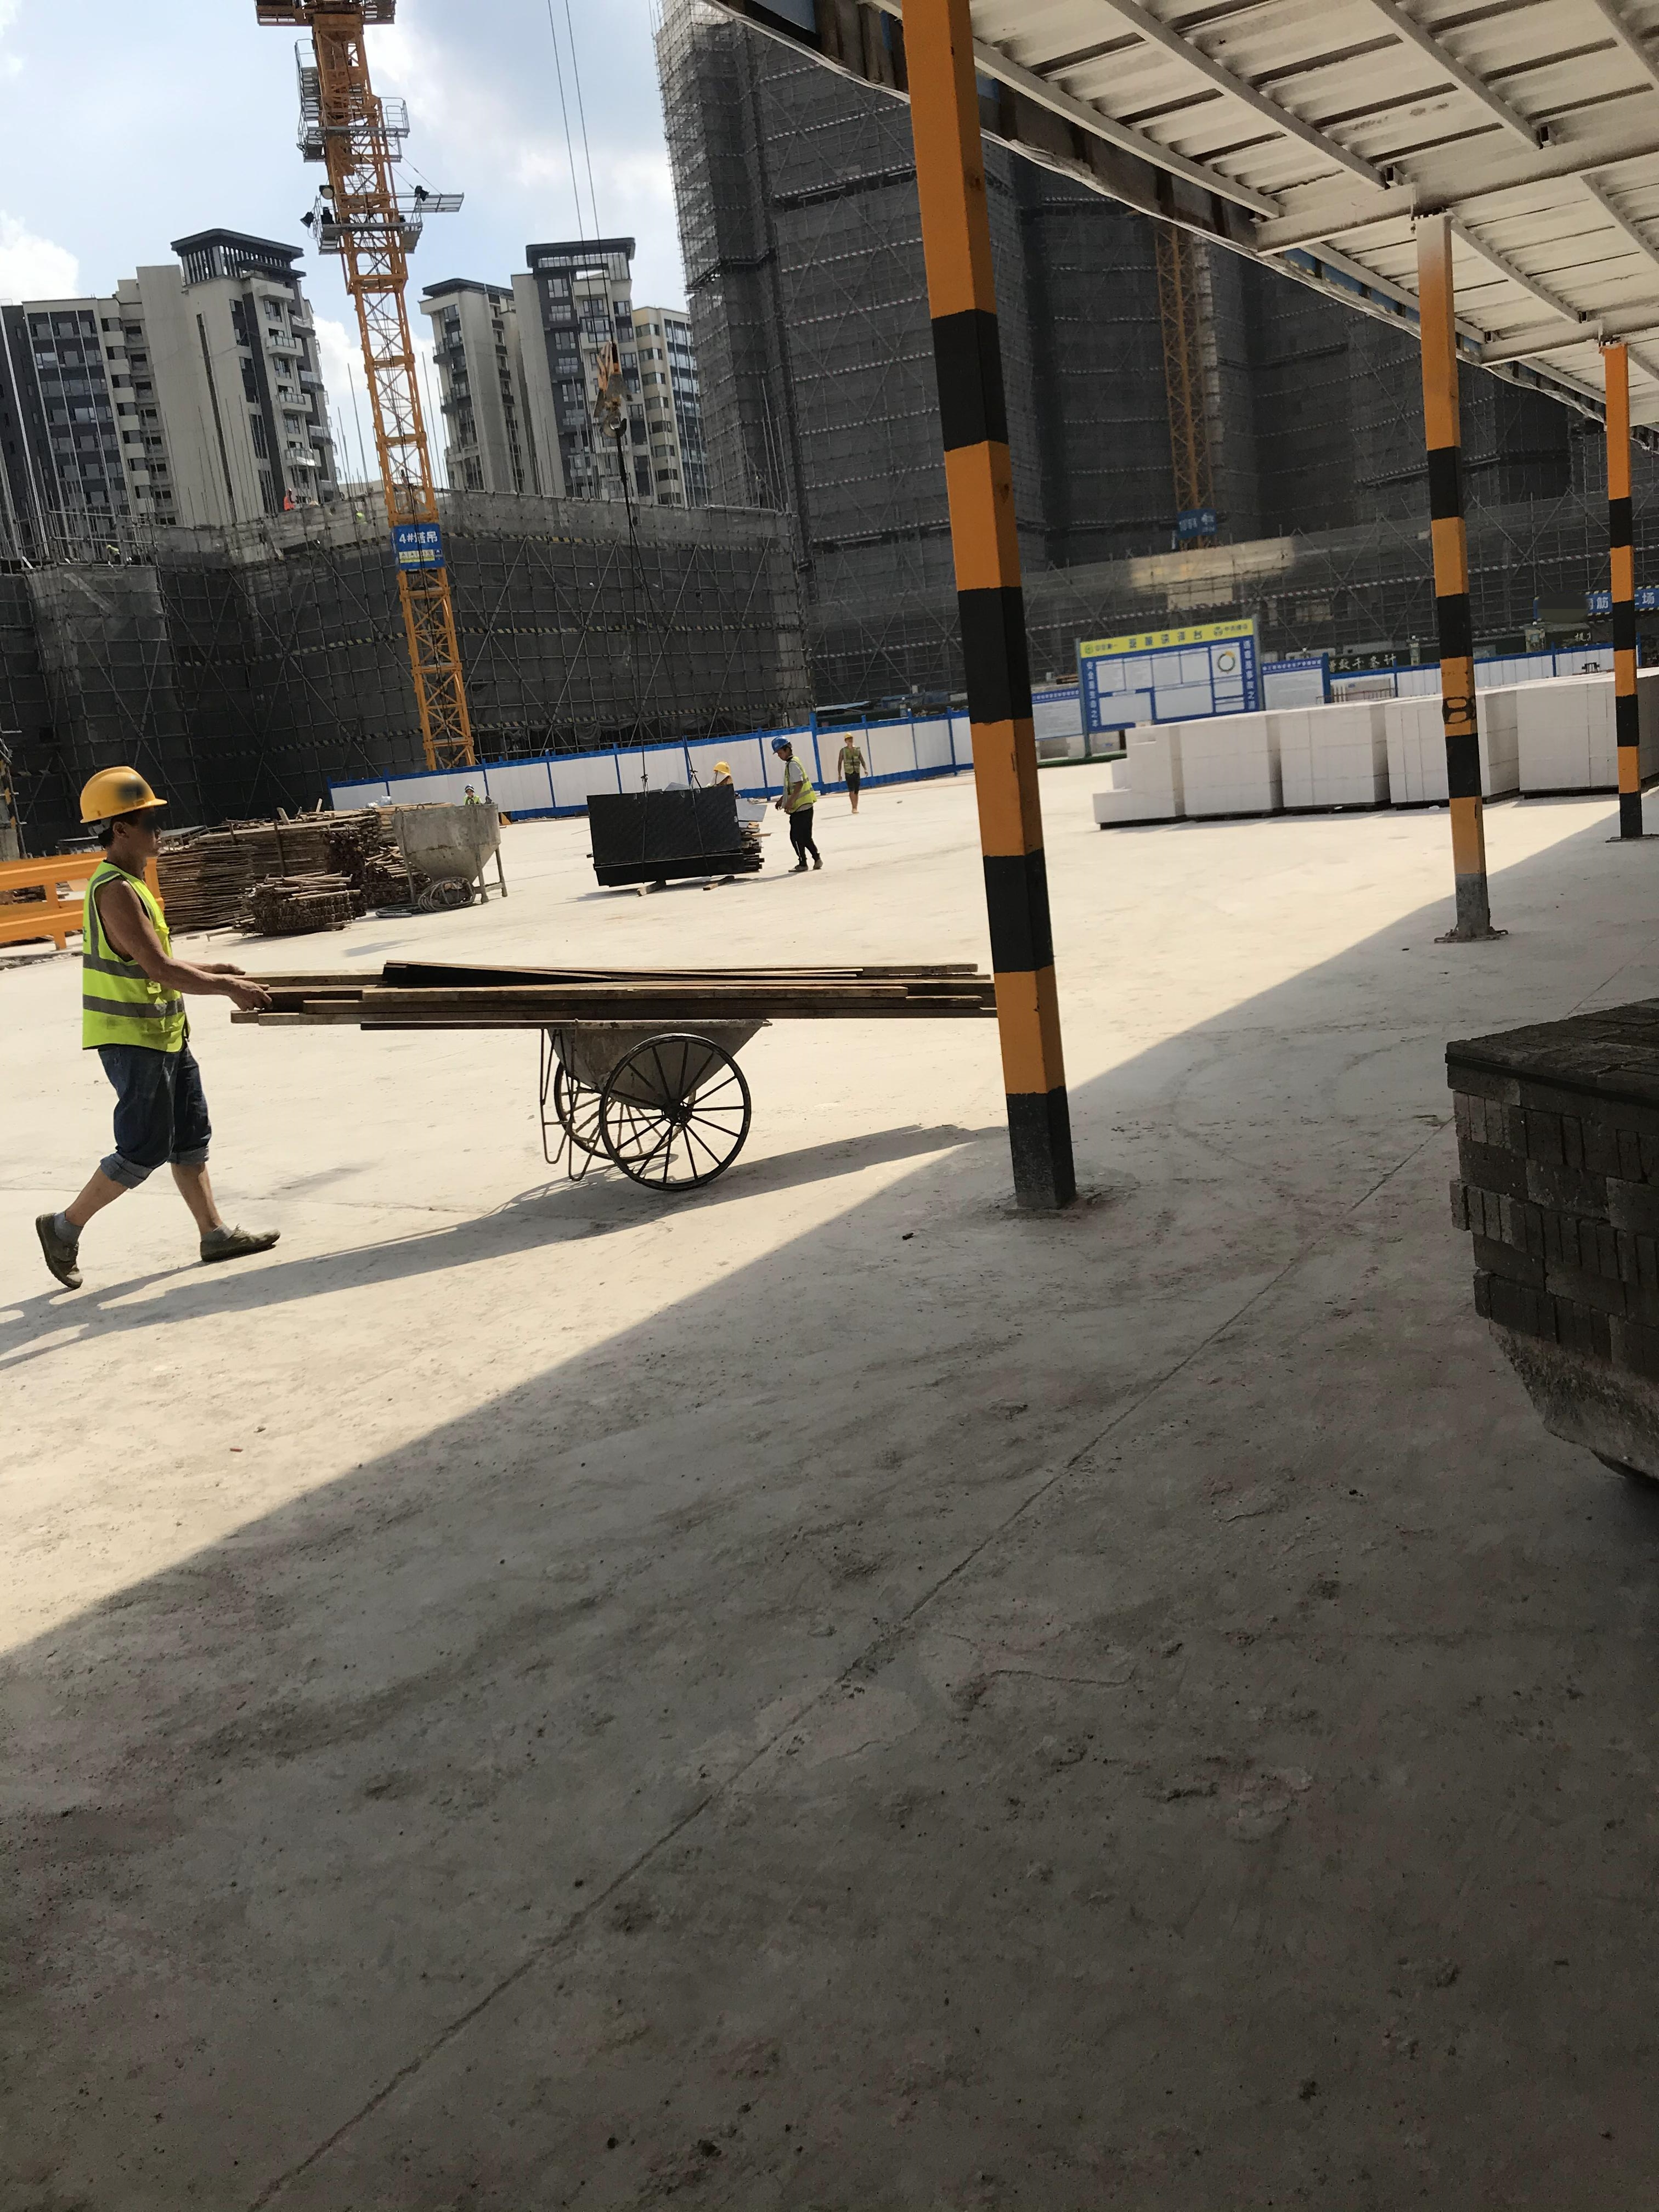brick: (1513, 672, 1618, 796), (1284, 698, 1385, 815), (1183, 709, 1283, 820), (1091, 720, 1182, 825), (1386, 694, 1444, 811)
handcart: (366, 1019, 774, 1191)
helmet: (77, 766, 167, 826), (772, 736, 791, 754), (713, 760, 731, 775), (844, 731, 854, 738)
hook: (590, 342, 630, 443)
person: (25, 770, 266, 1294), (769, 737, 823, 872), (837, 731, 870, 818)
scaffold: (242, 867, 354, 896)
vest: (82, 856, 189, 1054), (783, 754, 814, 816), (842, 747, 860, 775)
